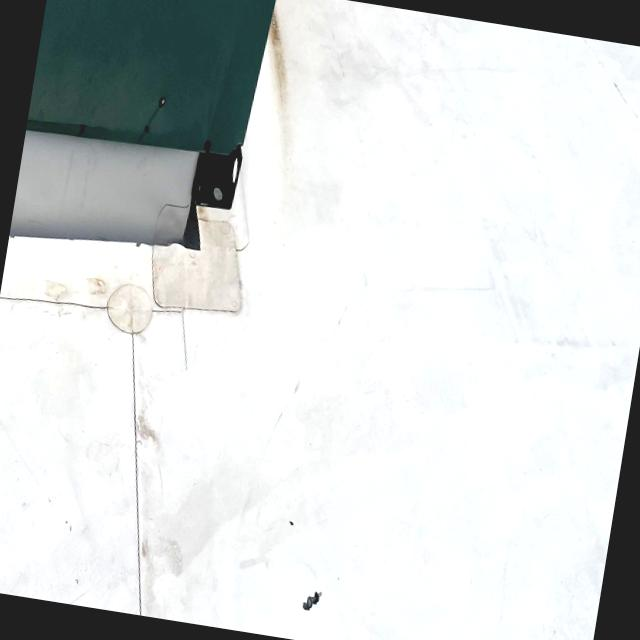RTU: (9, 0, 367, 288)
